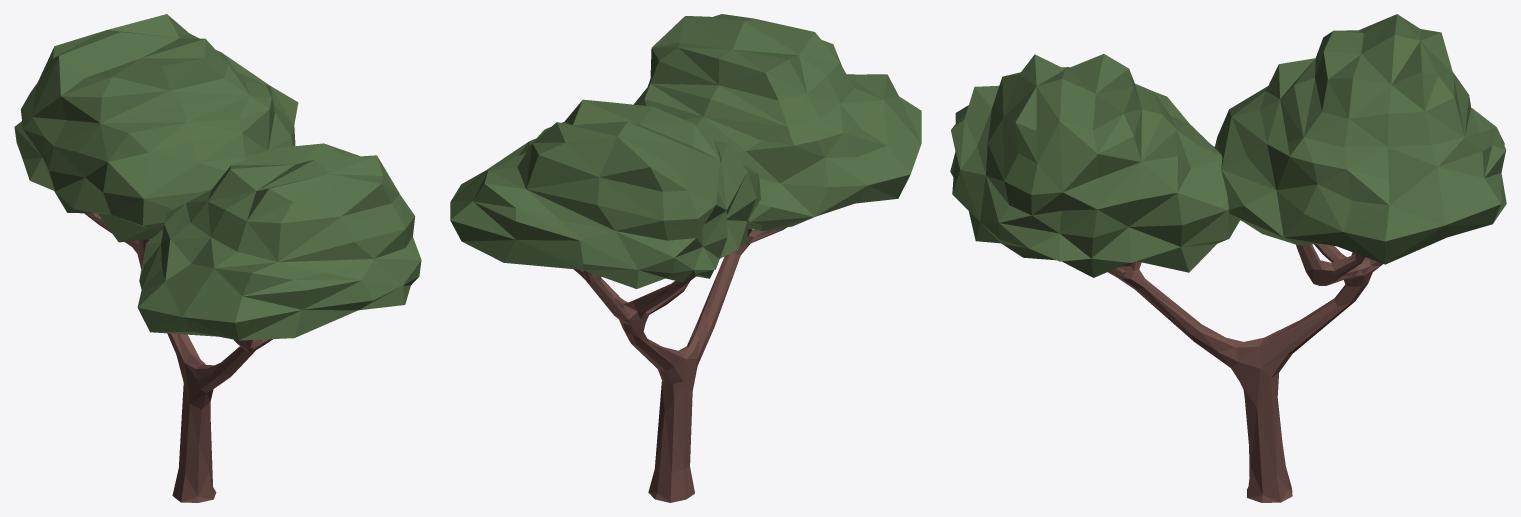
File: CommonTree_1.lod1.glb
3 views of the same model, side by side, from view 1: azimuth 30°, elevation 25°; view 2: azimuth 150°, elevation 25°; view 3: azimuth 270°, elevation 25° (orthographic). The views are drawn at different scales.
Parts seen in each view (by area): view 1: CommonTree_1; view 2: CommonTree_1; view 3: CommonTree_1.
Boxes of the visible parts, x1,y1,x2,y2 form: CommonTree_1: (14,14,421,502); CommonTree_1: (450,14,921,502); CommonTree_1: (950,14,1506,502).
Size of the model in its own units: 1.89 by 2.48 by 2.77.
